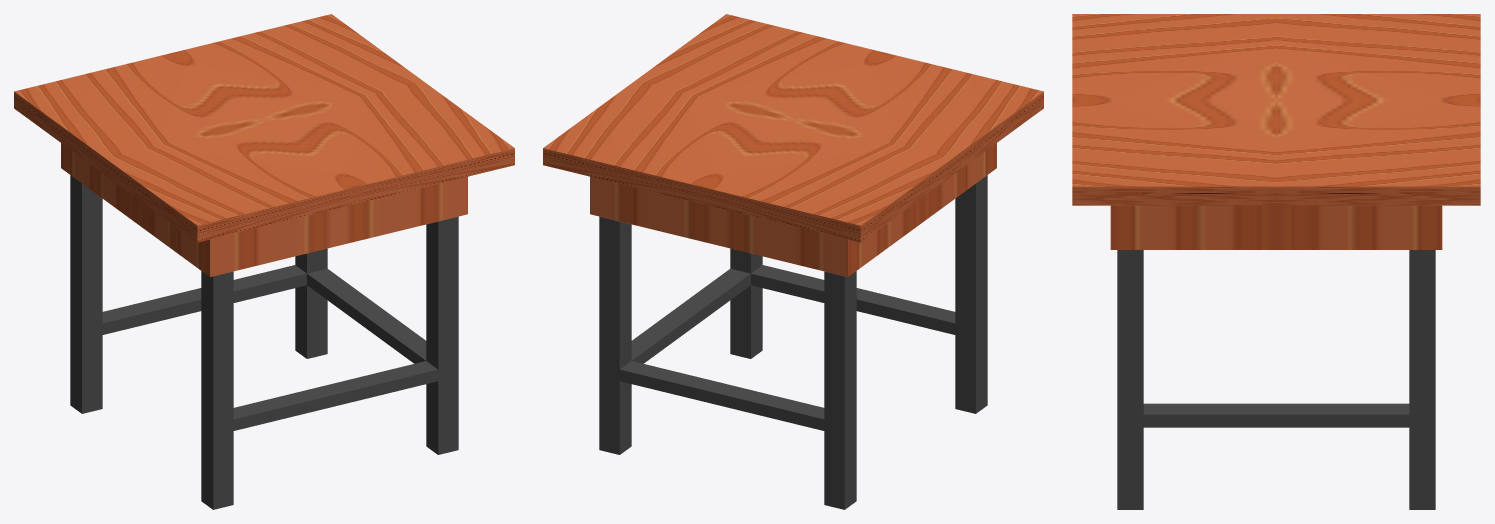
The model's file is MesaAlumno.fbx.
The picture shows the model from 3 angles, left to right: view 1: azimuth 30°, elevation 25°; view 2: azimuth 150°, elevation 25°; view 3: azimuth 270°, elevation 25°; orthographic projection. The views are drawn at different scales.
Parts seen in each view (by area): view 1: MesaAlumno; view 2: MesaAlumno; view 3: MesaAlumno.
Part boxes in pixels (x1,y1,x2,y2): MesaAlumno: [14, 14, 514, 509]; MesaAlumno: [543, 14, 1043, 509]; MesaAlumno: [1072, 14, 1480, 509].
Bounding box in the file's own units: 200 × 185 × 200.
